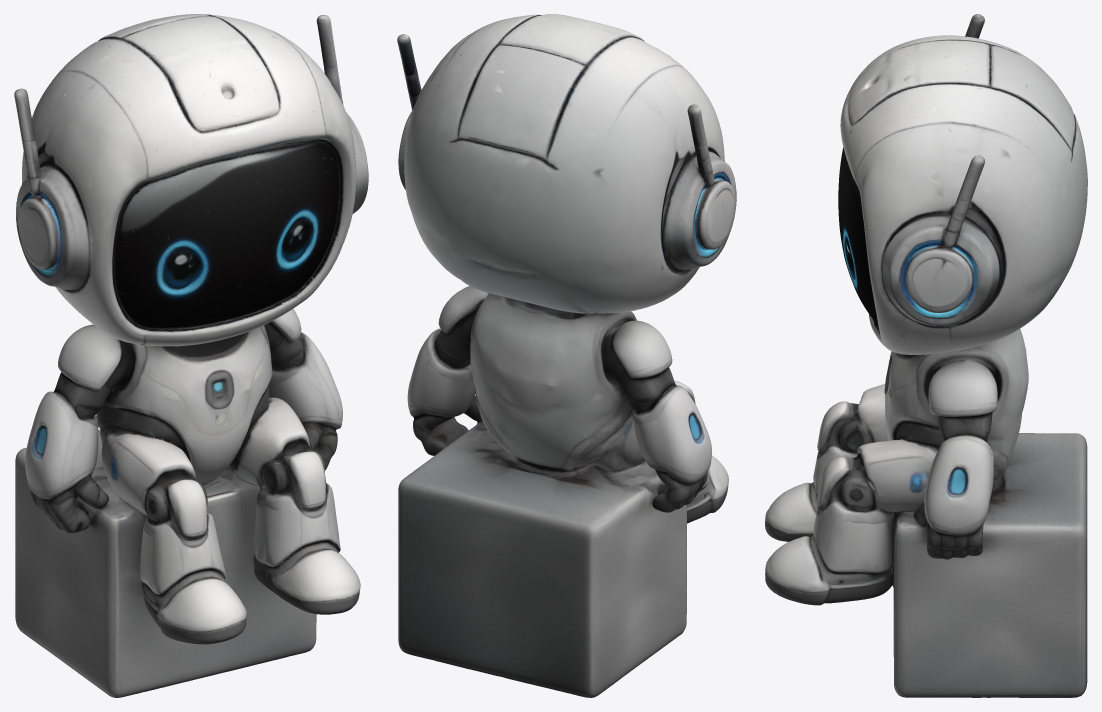
The model's file is robot_assis.glb.
The picture shows the model from 3 angles, left to right: view 1: azimuth 30°, elevation 25°; view 2: azimuth 150°, elevation 25°; view 3: azimuth 270°, elevation 25°; orthographic projection. The views are drawn at different scales.
Parts seen in each view (by area): view 1: geometry_0; view 2: geometry_0; view 3: geometry_0.
Part boxes in pixels (<box>): geometry_0: <box>14,14,368,697</box>; geometry_0: <box>397,14,736,697</box>; geometry_0: <box>765,14,1087,697</box>.
Size of the model in its own units: 0.5334 by 0.9999 by 0.4904.
Materials: 1 (1 with a texture image).
